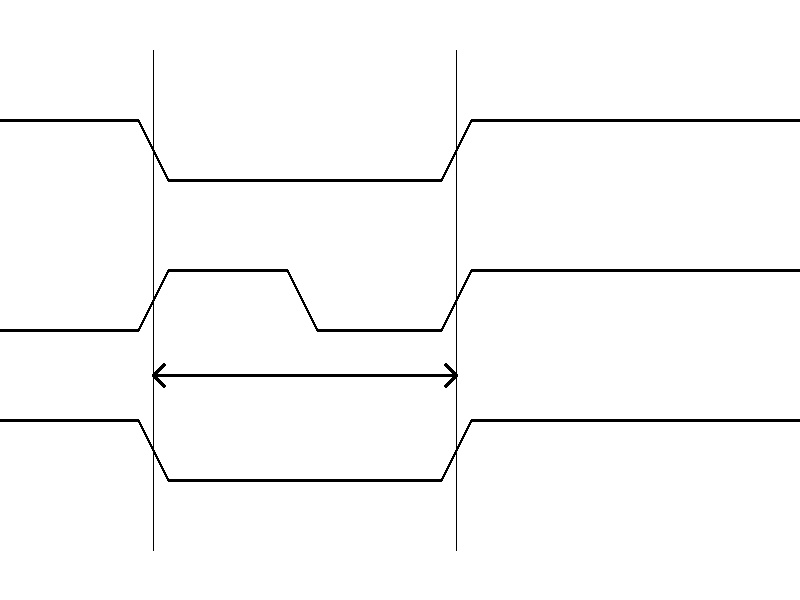double_arrow: (153, 360, 456, 390)
